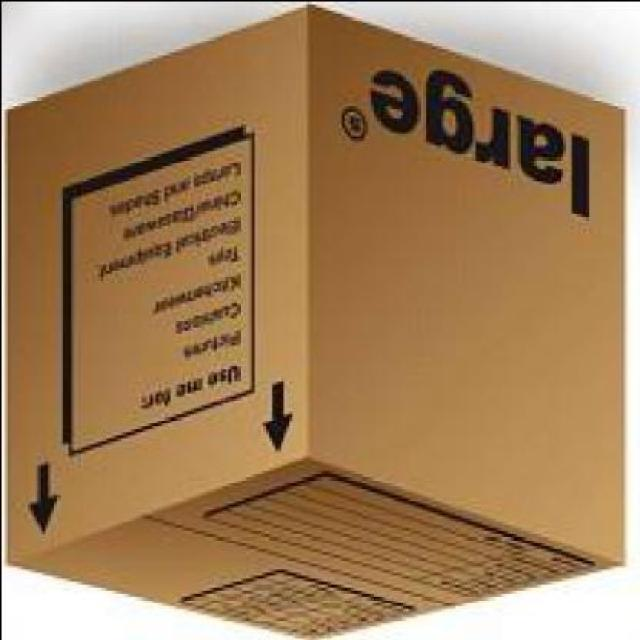CARDBOARD: (3, 3, 629, 639)
